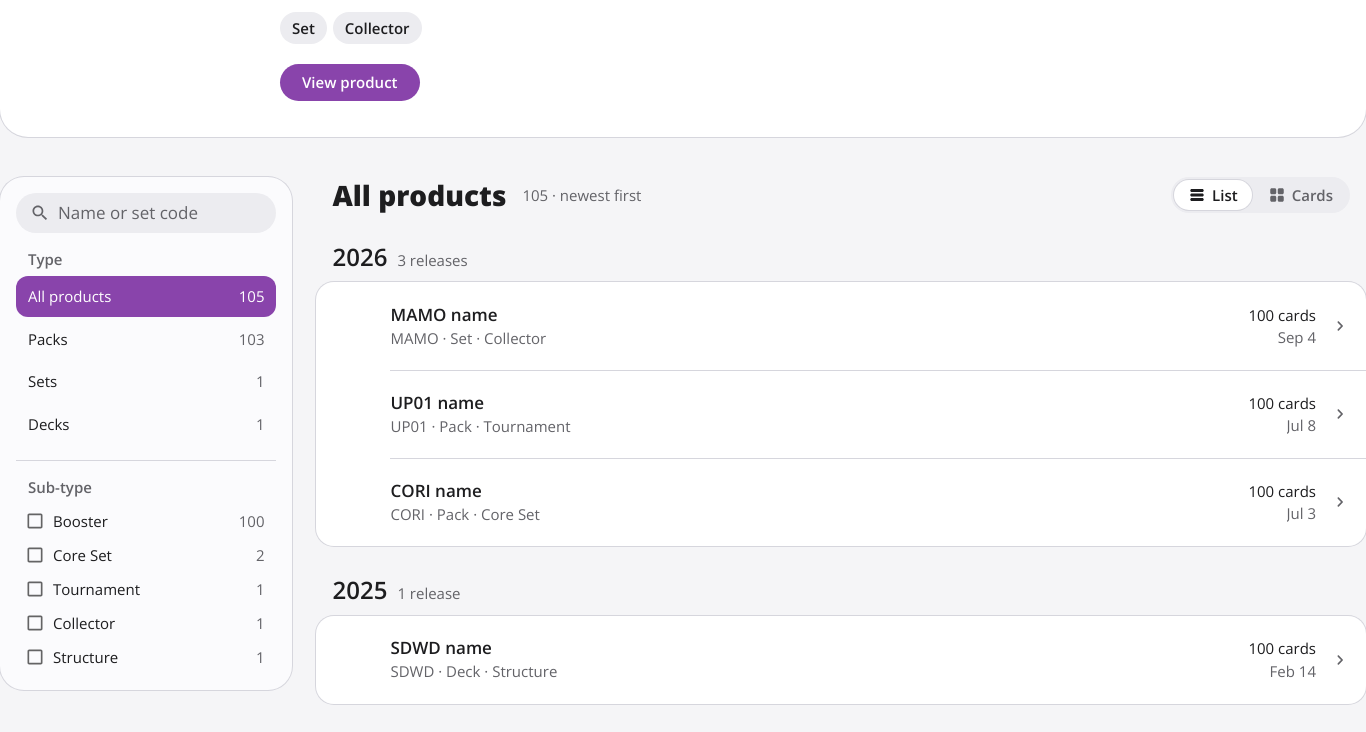
Test case: a year picked on the graph that the filters leave empty clears them and jumps to it
This screenshot has width=1366, height=732.
(page scrolled)
Click the button "Decks 1".
click(49, 424)  # box [16,404,276,444]
(page scrolled)
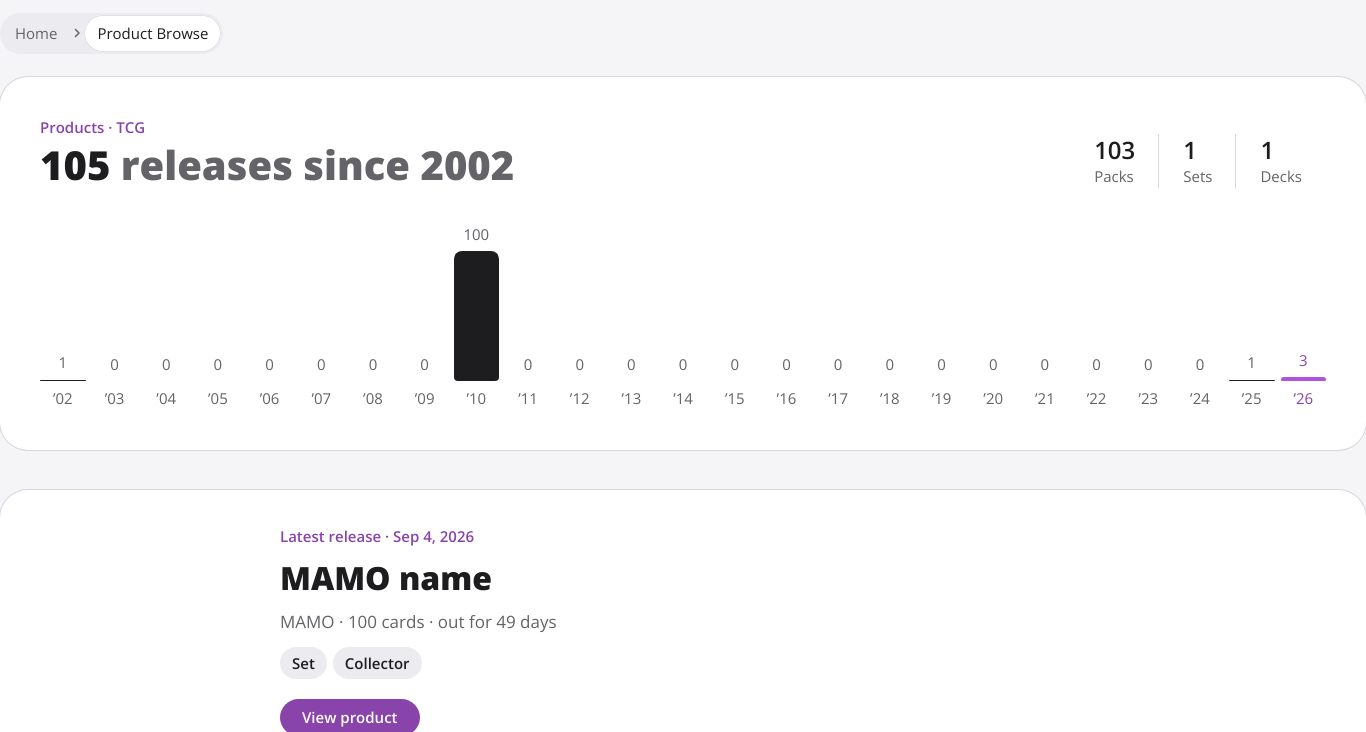
Click the button named "2010, 100 releases".
click(476, 314)  # box [454,220,499,410]
(page scrolled)
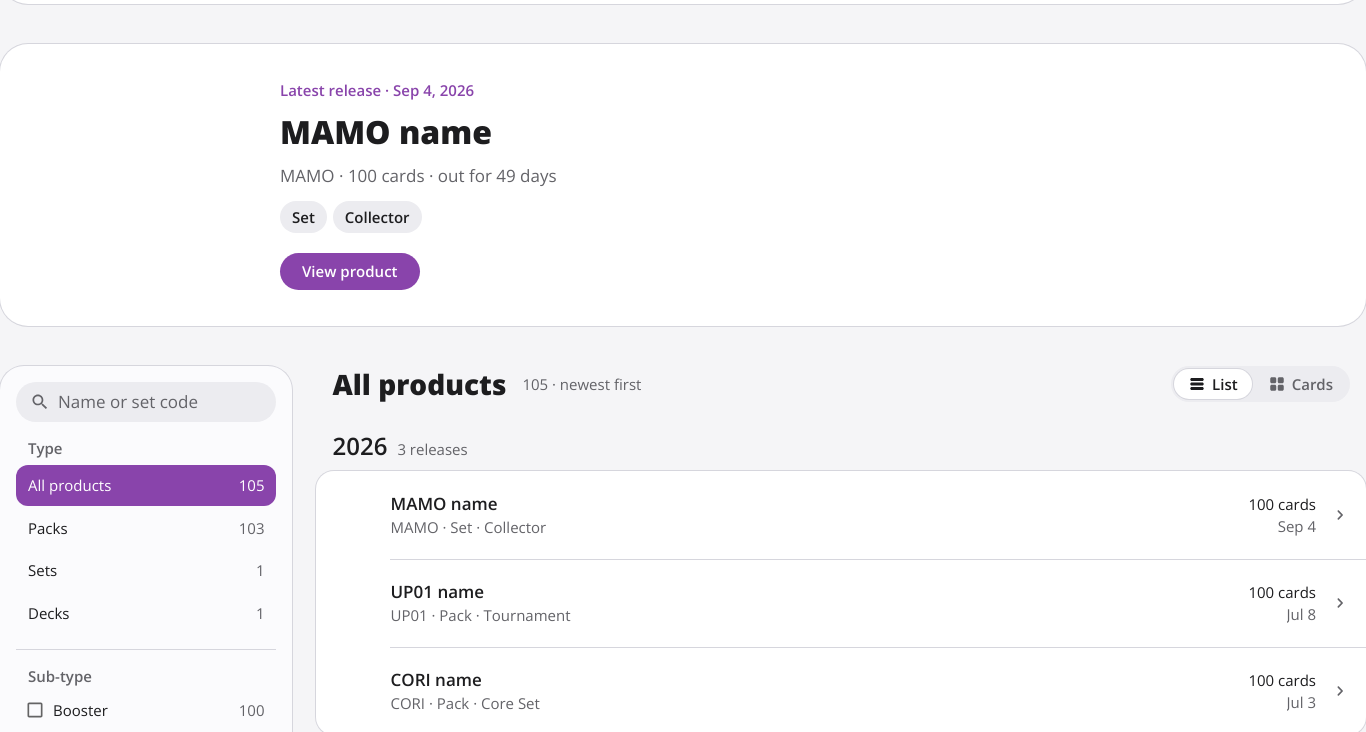
Now the heading "All products" is shown, box [332,367,506,402]
